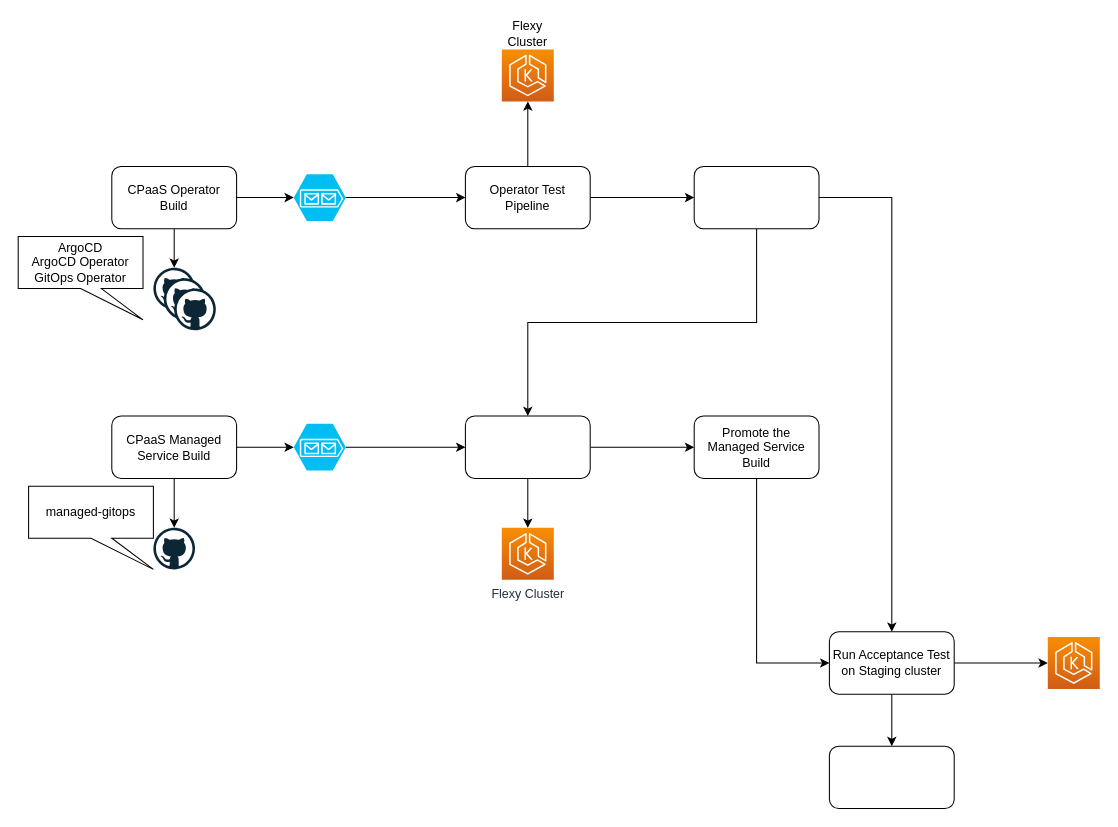
This 1118x827 diagram has some shape labels left out. The shapes that lost their labels are listed below. From the top down, each one's centre as x and y in pixels, then its label:
(x=756, y=197): Promote the Operator Build
(x=527, y=446): Managed Service Test Pipeline
(x=1073, y=662): AppSRE
(x=891, y=777): Deploy the builds to Managed Service (RHTAP)
